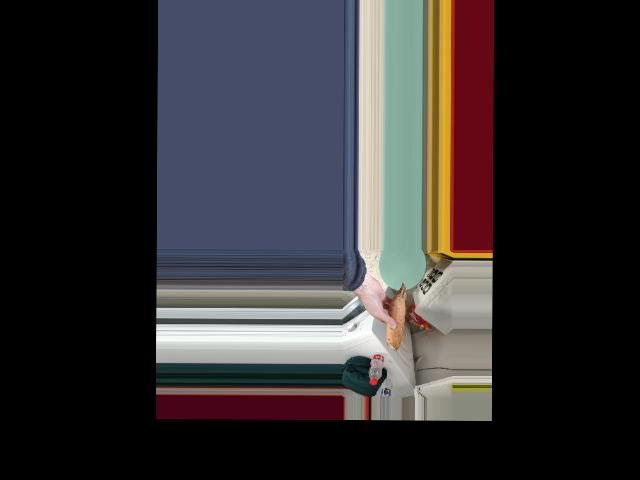sweet_potato: (389, 278, 407, 353)
